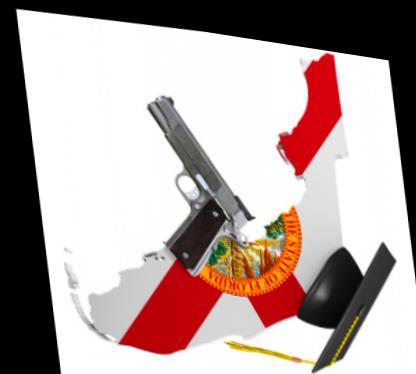pistol: (138, 85, 263, 290)
